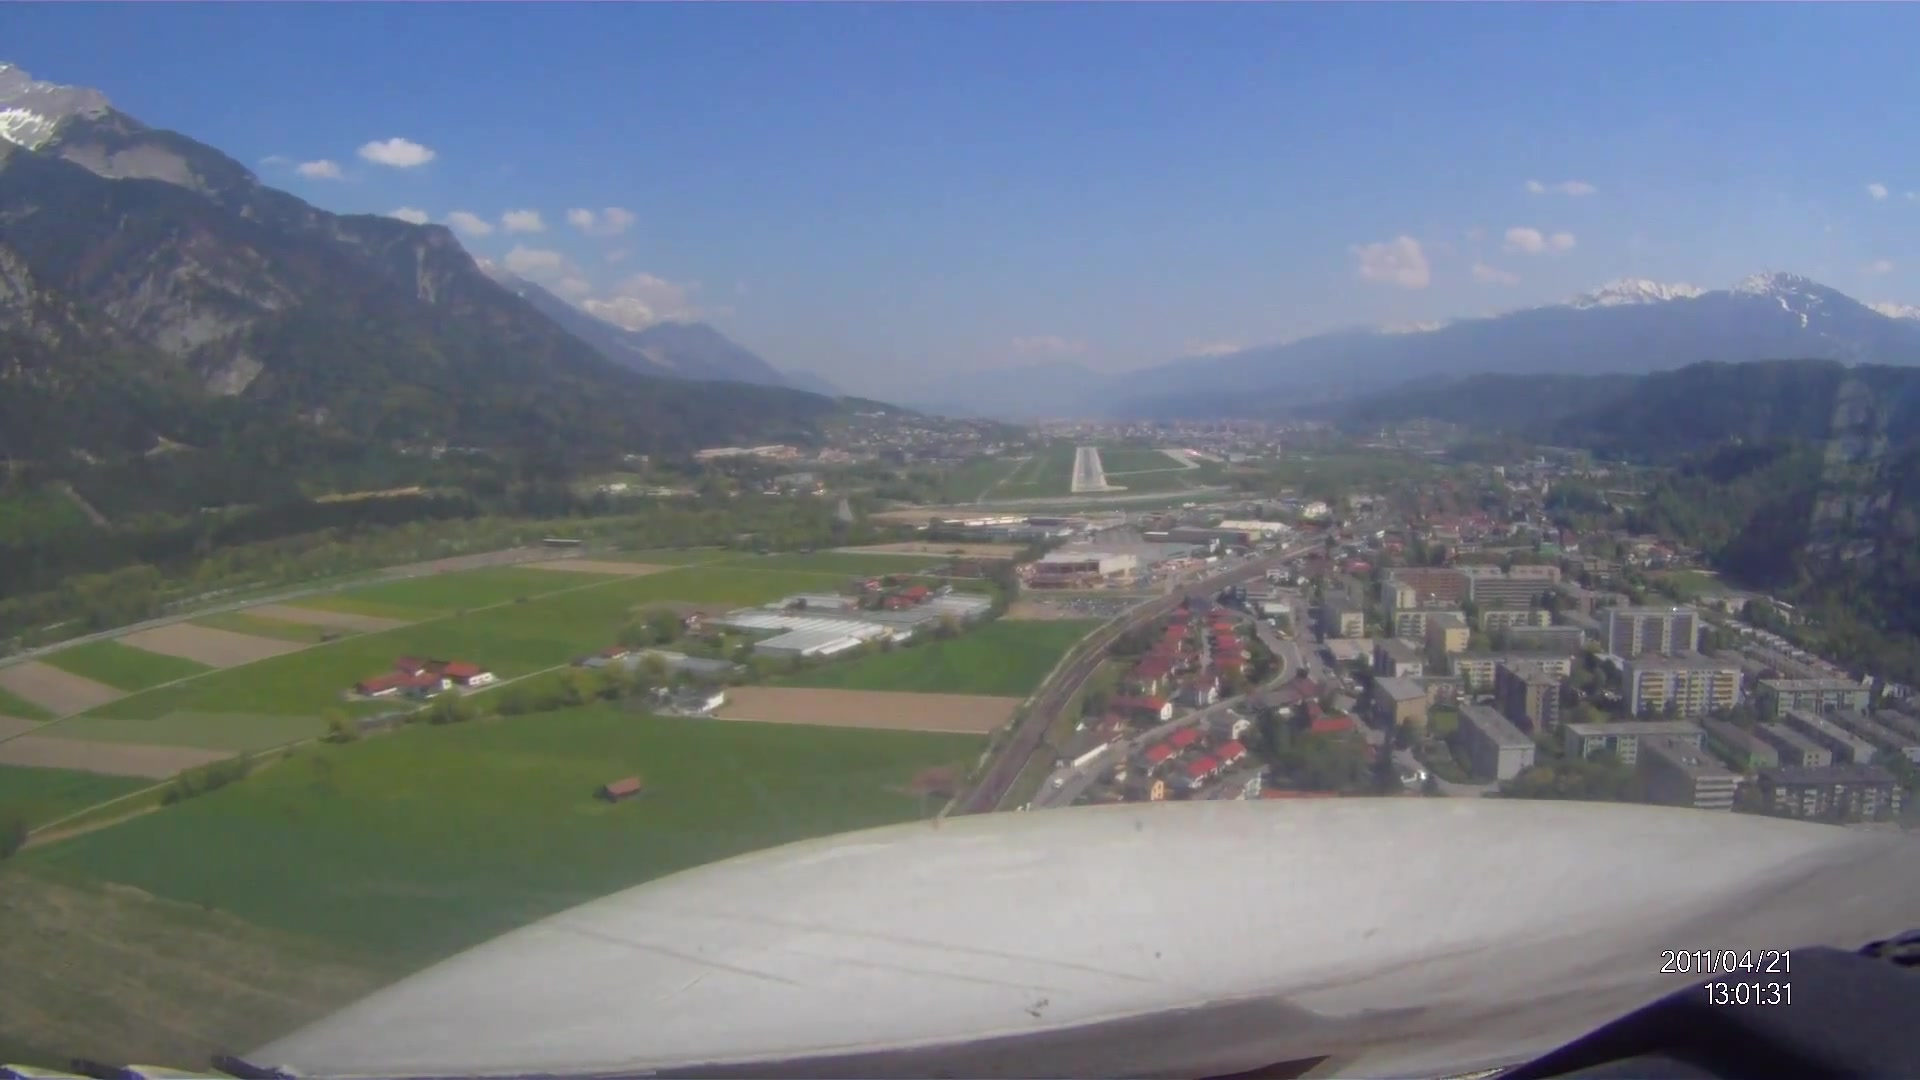runway: (1069, 444, 1110, 492)
